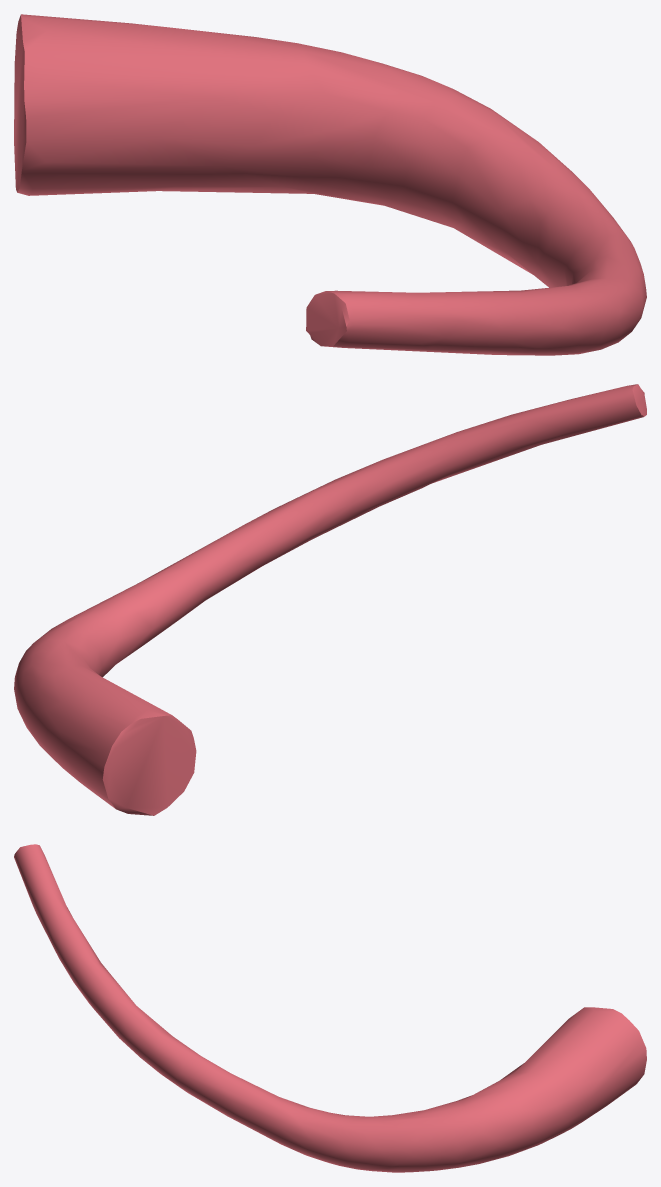
Rendered from fma13279_fj2908.glb.
3 views of the same model, one above another, from view 1: azimuth 30°, elevation 25°; view 2: azimuth 150°, elevation 25°; view 3: azimuth 270°, elevation 25° (orthographic). The views are drawn at different scales.
Parts seen in each view (by area): view 1: FMA13279_FJ2908; view 2: FMA13279_FJ2908; view 3: FMA13279_FJ2908.
Part boxes in pixels (x1,y1,x2,y2): FMA13279_FJ2908: (14,14,646,355); FMA13279_FJ2908: (14,384,646,815); FMA13279_FJ2908: (14,844,646,1172).
Size of the model in its own units: 0.0313 by 0.0172 by 0.0533.
